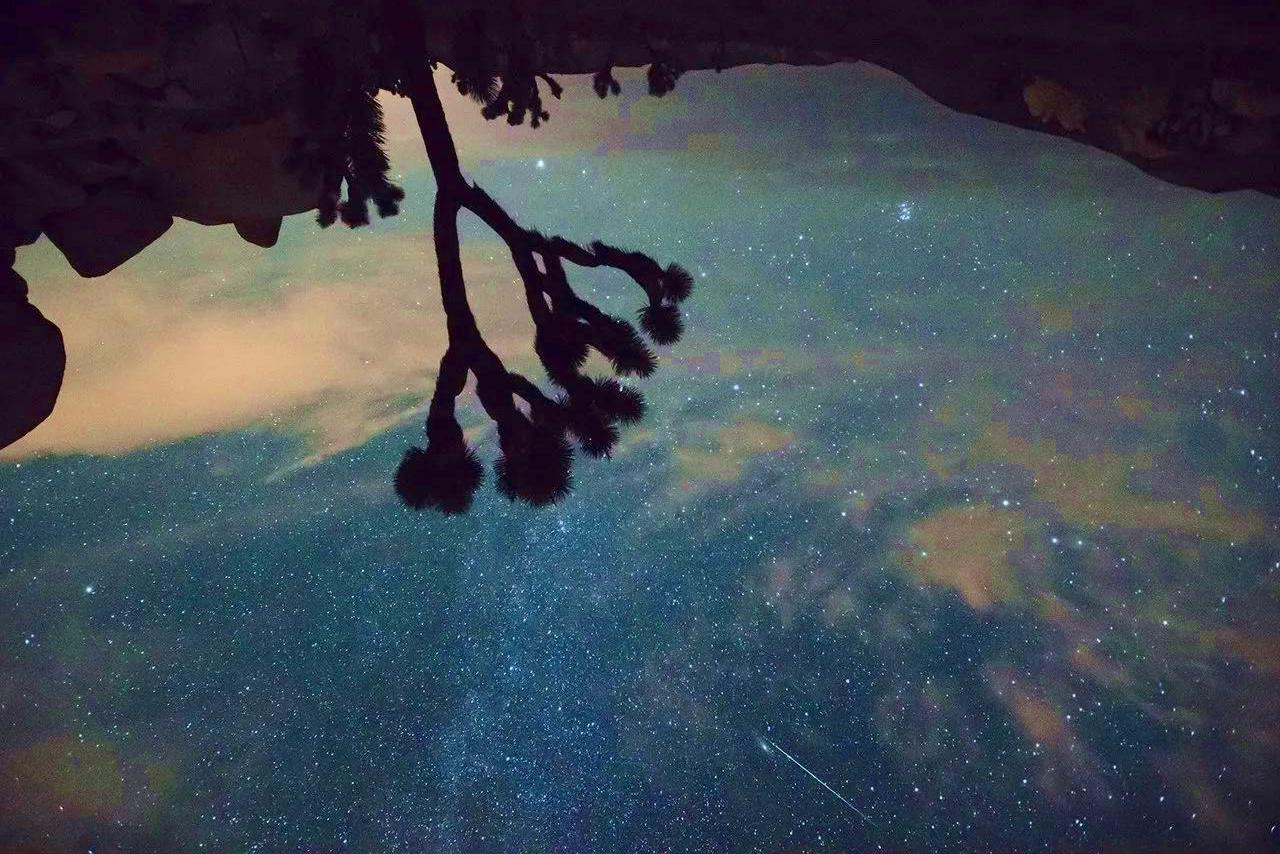meteorite: (737, 729, 887, 819)
